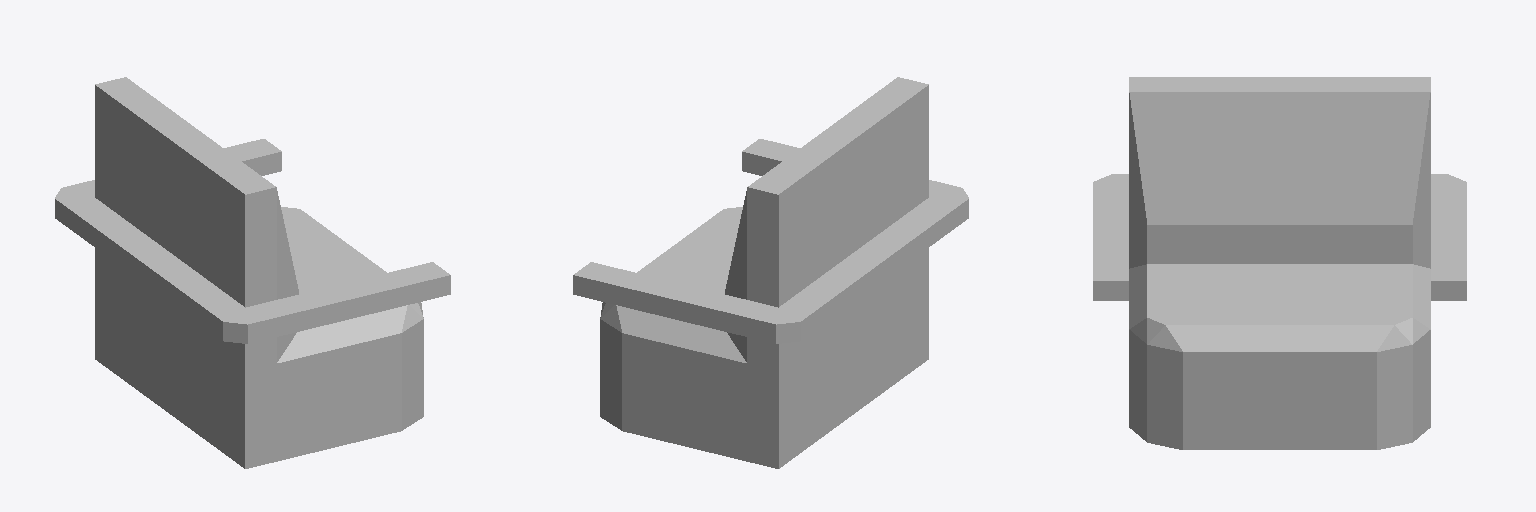
File: chair2.obj
3 renders of one model, left to right at view 1: azimuth 30°, elevation 25°; view 2: azimuth 150°, elevation 25°; view 3: azimuth 270°, elevation 25°, orthographic.
Visible parts, largest first — view 1: Chair2_SELECT; view 2: Chair2_SELECT; view 3: Chair2_SELECT.
Boxes of the visible parts, box(x1,y1,x2,y2) form: Chair2_SELECT: box(55, 77, 450, 468); Chair2_SELECT: box(573, 77, 968, 468); Chair2_SELECT: box(1093, 77, 1466, 449).
Size of the model in its own units: 60 by 67.2 by 82.81.